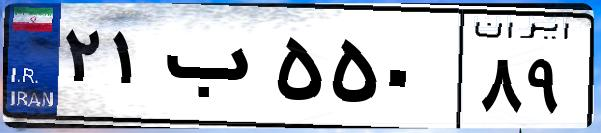0: (385, 28, 445, 110)
1: (110, 28, 158, 98)
2: (57, 26, 110, 100)
5: (270, 28, 330, 110), (330, 28, 385, 110)
8: (475, 38, 525, 113)
9: (525, 38, 570, 115)
ب: (158, 20, 270, 120)
